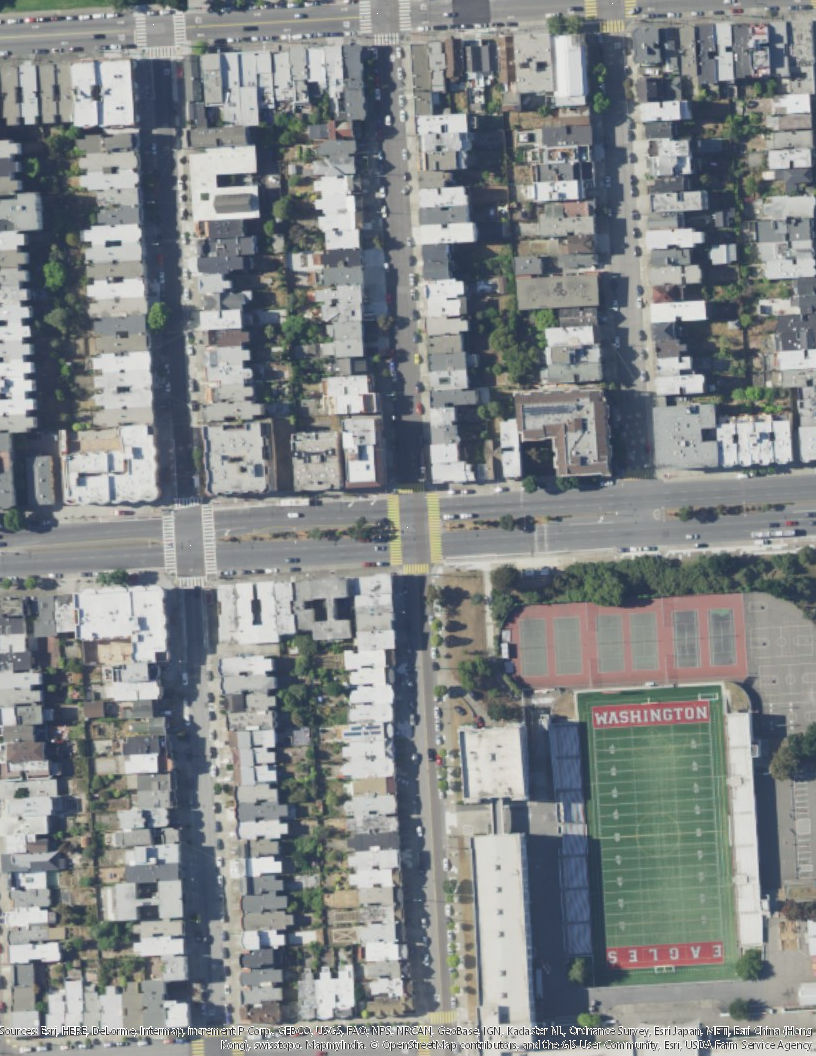zebracross: (425, 493, 445, 563), (385, 496, 403, 567), (200, 505, 217, 575), (162, 511, 178, 577), (173, 14, 187, 50), (134, 11, 147, 48), (598, 19, 628, 35), (388, 483, 428, 495), (397, 1, 412, 31), (360, 2, 374, 34), (428, 1012, 461, 1025), (145, 46, 178, 58), (176, 577, 208, 589), (403, 563, 428, 577), (375, 32, 399, 46), (583, 1, 598, 23), (173, 498, 200, 510), (622, 1, 639, 20), (419, 1032, 429, 1056), (192, 1037, 203, 1056), (232, 1039, 243, 1056)
